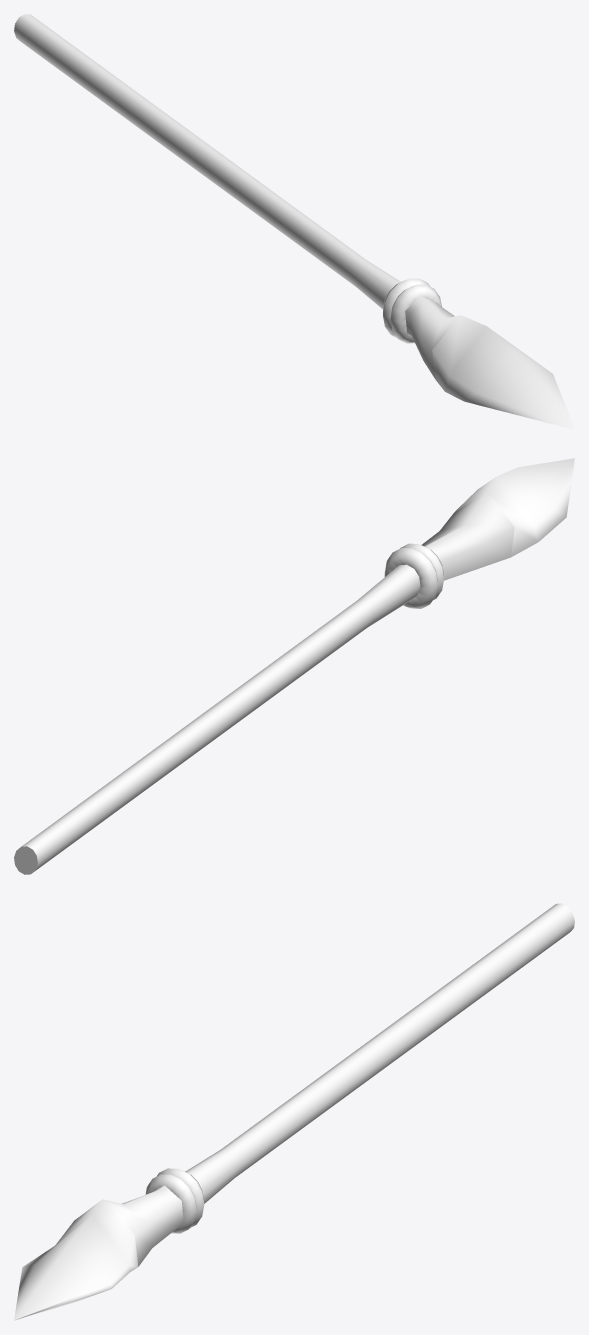
The model's file is Spear.FBX.
3 renders of one model, top to bottom at view 1: azimuth 30°, elevation 25°; view 2: azimuth 150°, elevation 25°; view 3: azimuth 330°, elevation 25°, orthographic.
Parts seen in each view (by area): view 1: spear; view 2: spear; view 3: spear.
Part boxes in pixels (x1,y1,x2,y2): spear: (14,14,574,429); spear: (14,458,574,874); spear: (14,903,574,1320).
Bounding box in the file's own units: 0.2733 × 0.2209 × 2.9.
